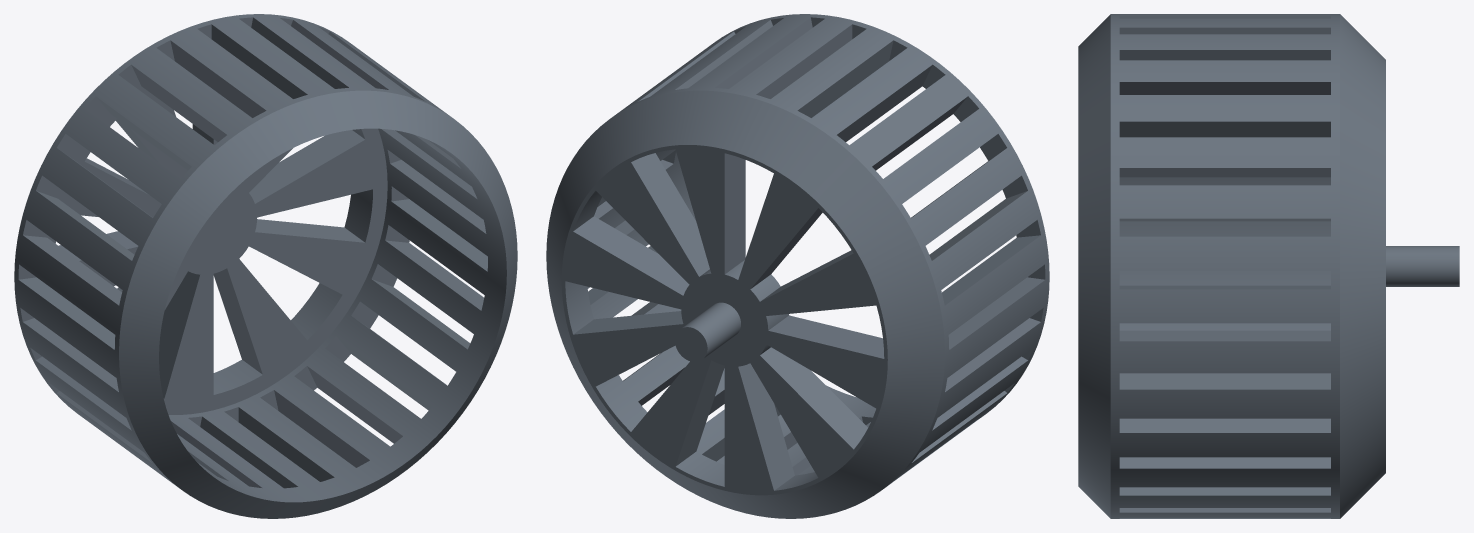
The model's file is ROVER_V1 - weel_left_front.gltf.
3 views of the same model, side by side, from view 1: azimuth 30°, elevation 25°; view 2: azimuth 150°, elevation 25°; view 3: azimuth 270°, elevation 25° (orthographic). The views are drawn at different scales.
Parts seen in each view (by area): view 1: weel_left_front; view 2: weel_left_front; view 3: weel_left_front.
Boxes of the visible parts, x1,y1,x2,y2 form: weel_left_front: (14,14,517,518); weel_left_front: (546,14,1049,518); weel_left_front: (1078,14,1459,518).
Bounding box in the file's own units: 0.55 × 0.55 × 0.415.
